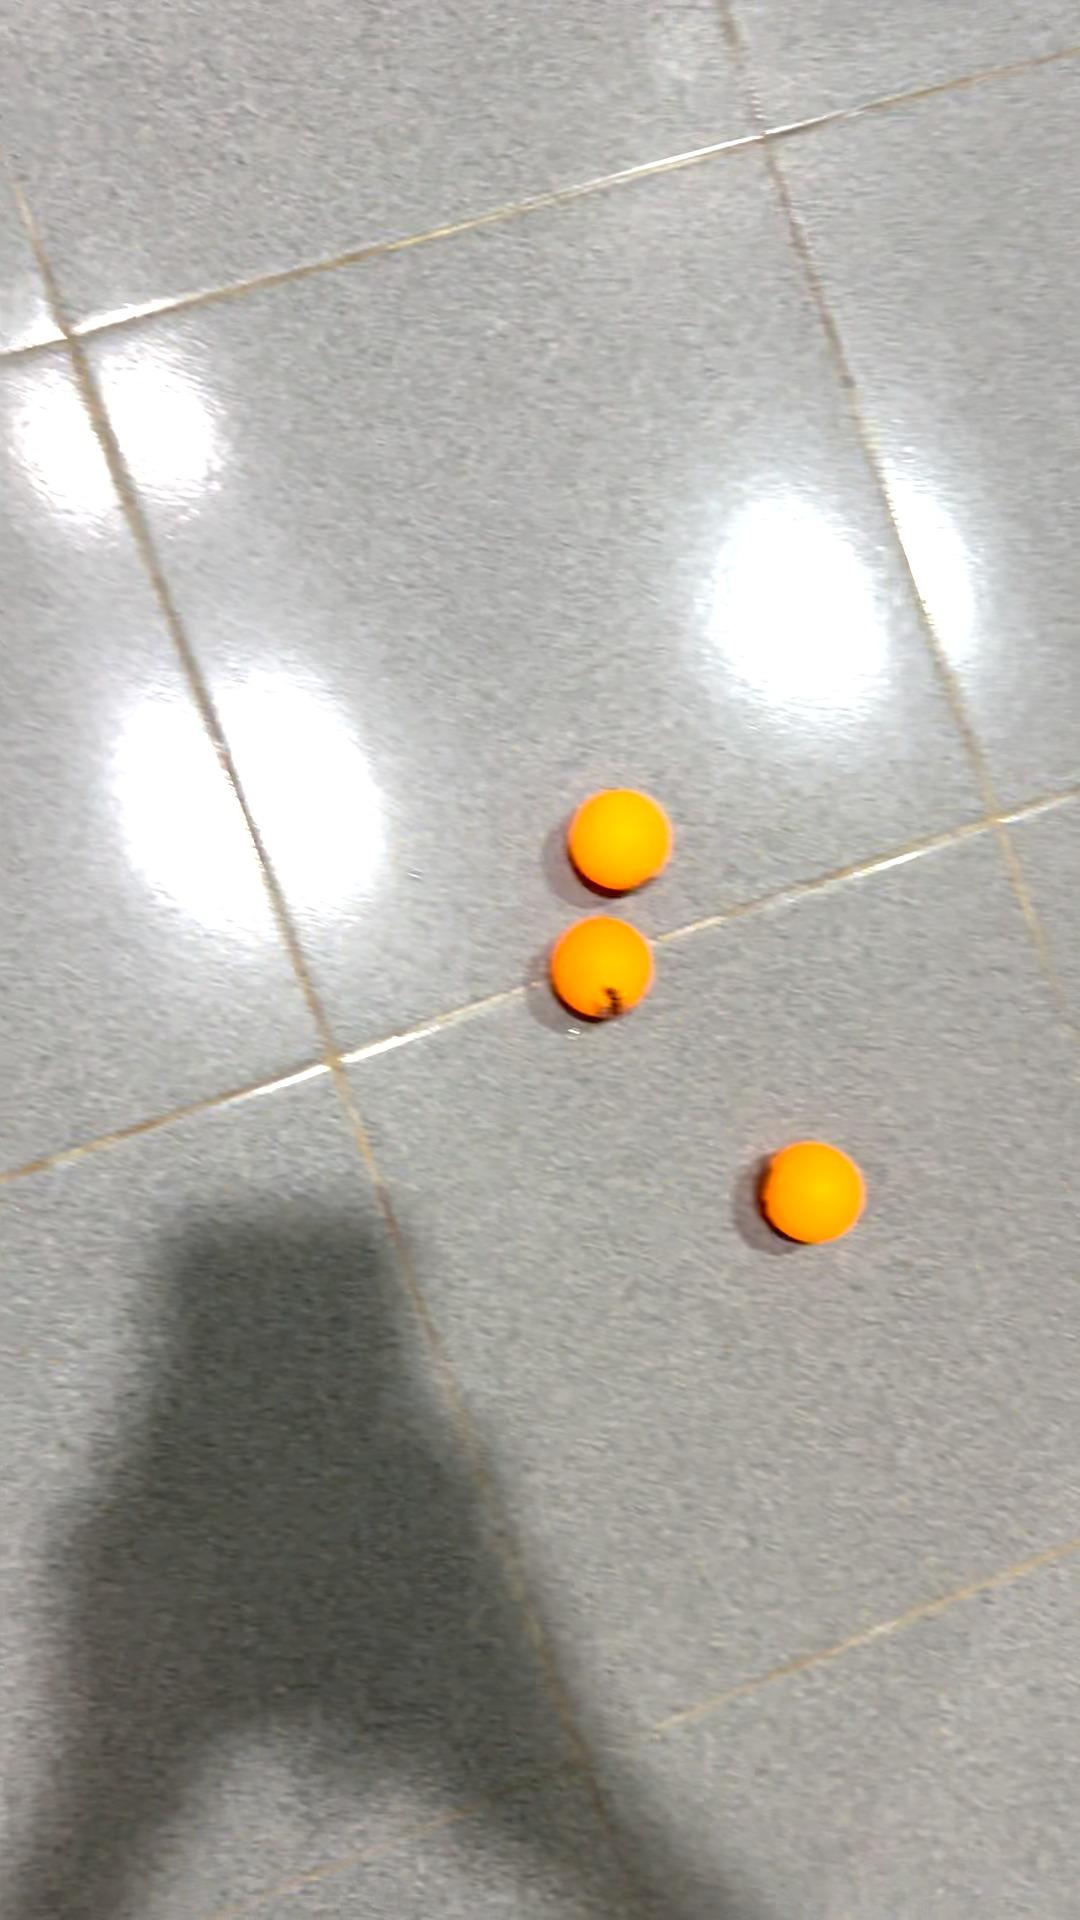oball: (562, 778, 684, 897), (761, 1138, 873, 1263), (543, 914, 657, 1023)
